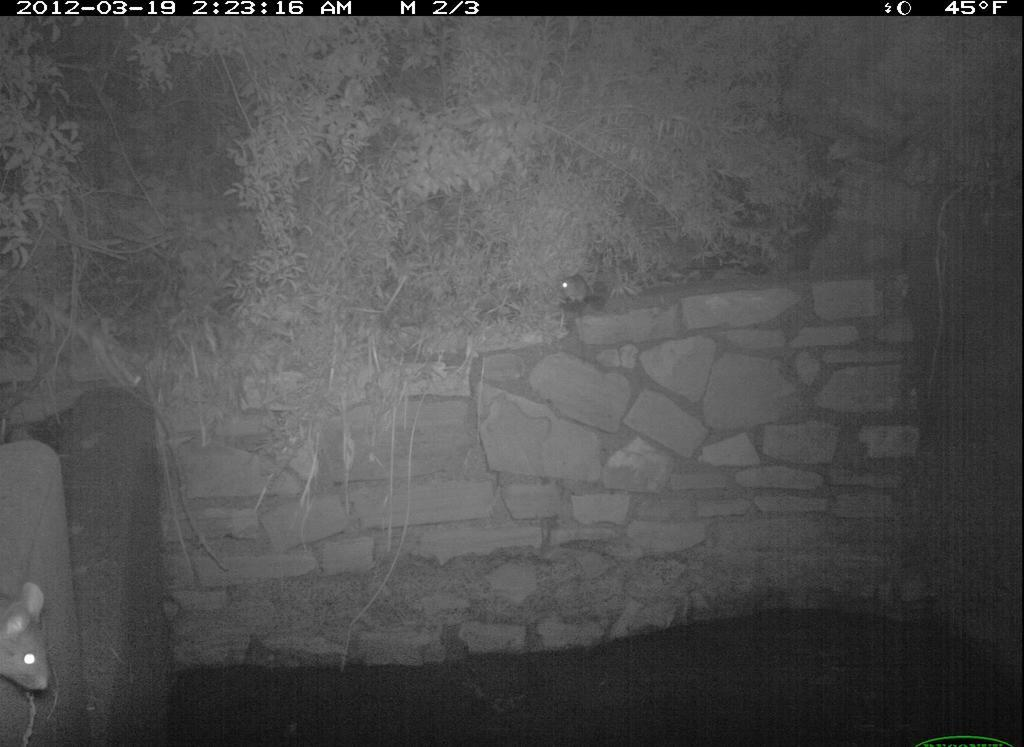rodent: (546, 267, 614, 322)
